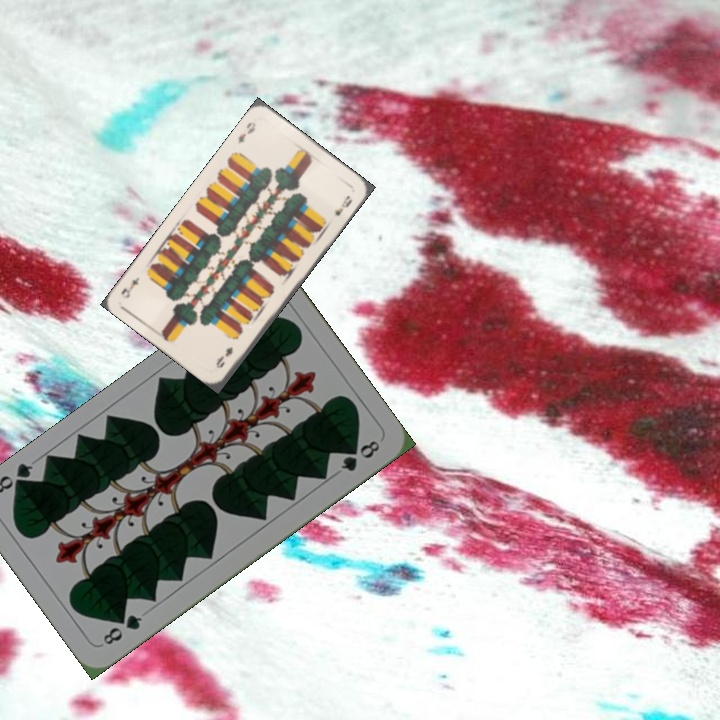E9: (234, 117, 259, 146), (212, 343, 236, 371)
G8: (98, 610, 145, 648)
